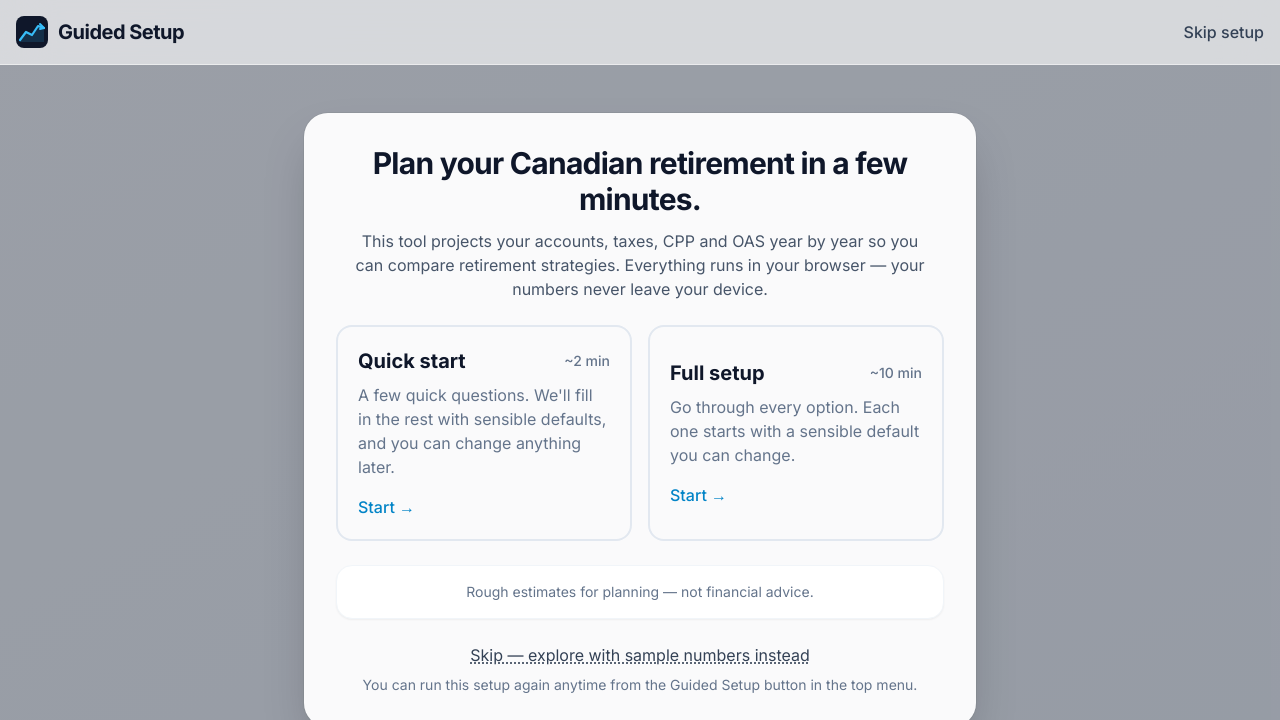
Scenario: OnboardingFlow › switching from Quick start to Full setup carries a quick-path edit into the draft
The image size is (1280, 720).
Click the button "Quick start" at (484, 433), box x1=336 y1=325 x2=632 y2=541
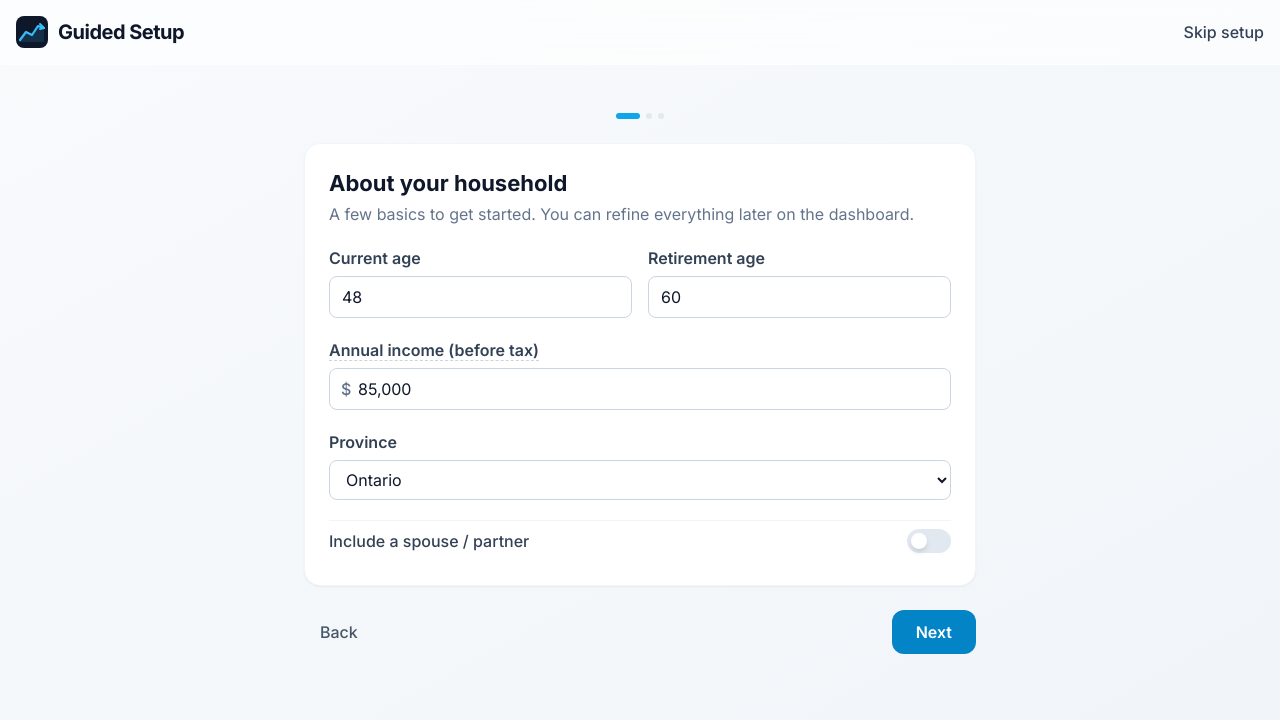
Replace the text in the field below "Current age" with "33" at (480, 297), box x1=329 y1=276 x2=632 y2=318
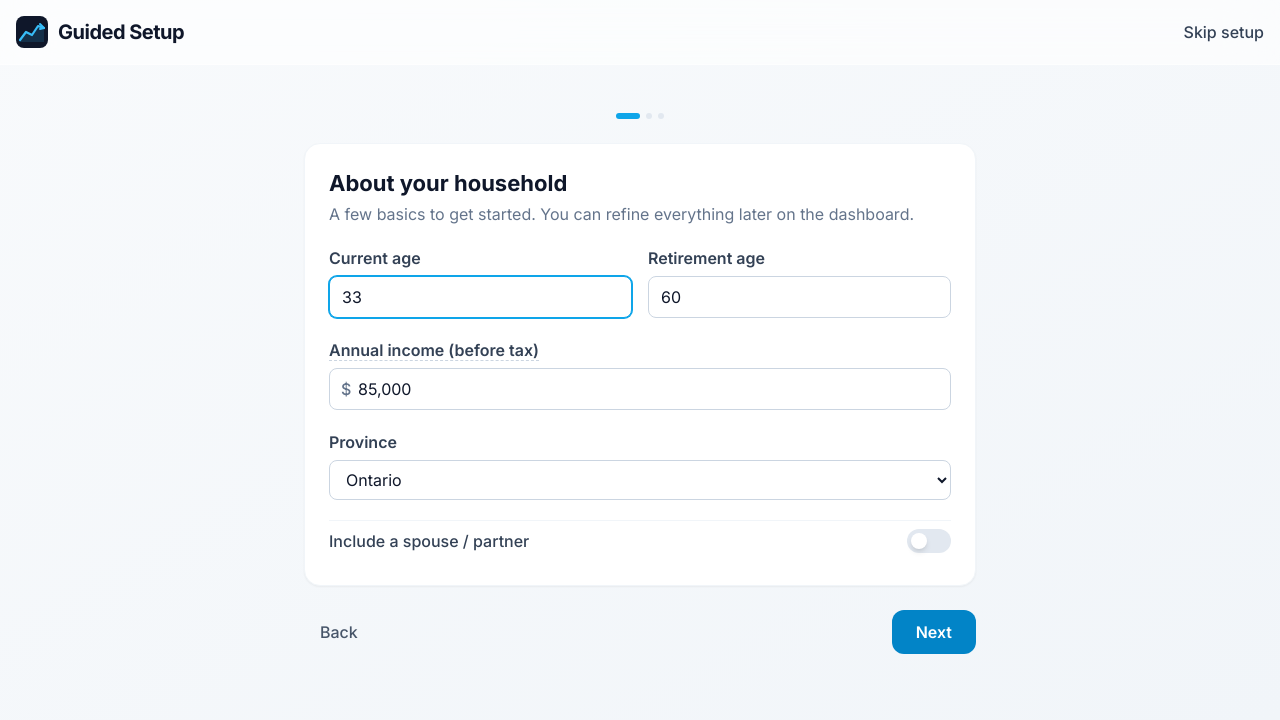
Press Tab
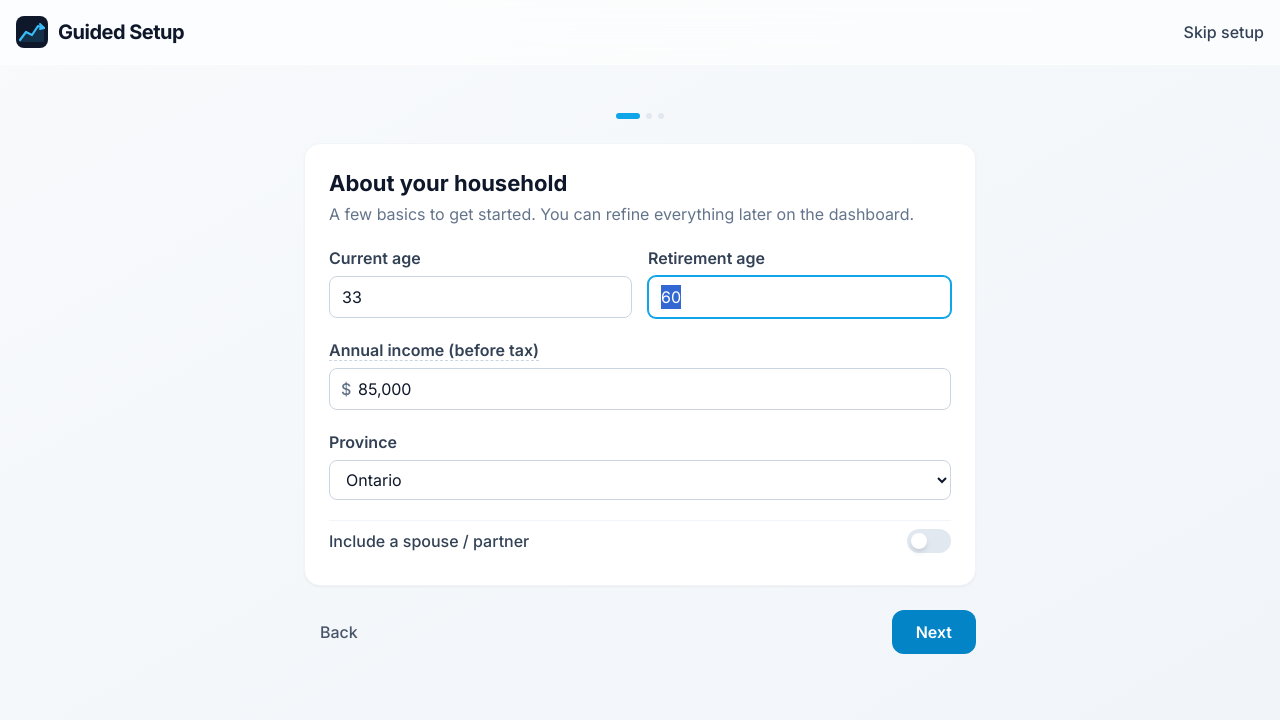
Click the button "Back" at (339, 632), box x1=304 y1=610 x2=374 y2=654
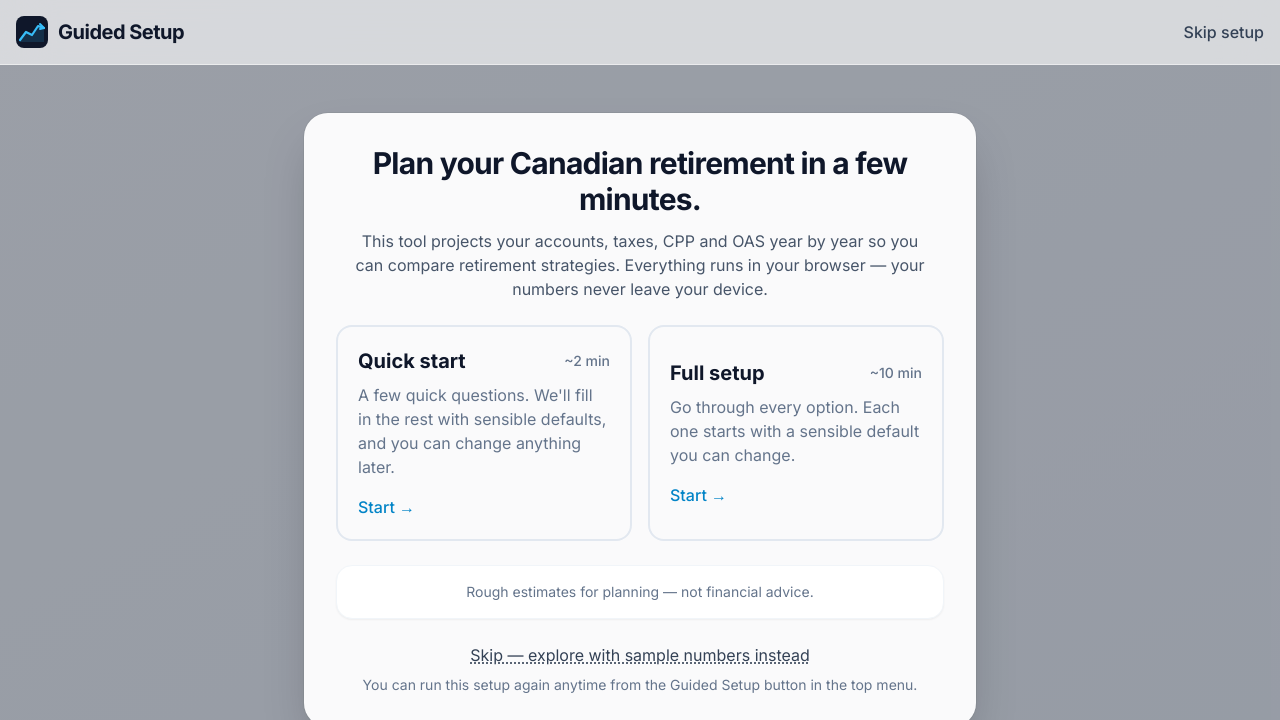
Click the button "Full setup" at (796, 433), box x1=648 y1=325 x2=944 y2=541
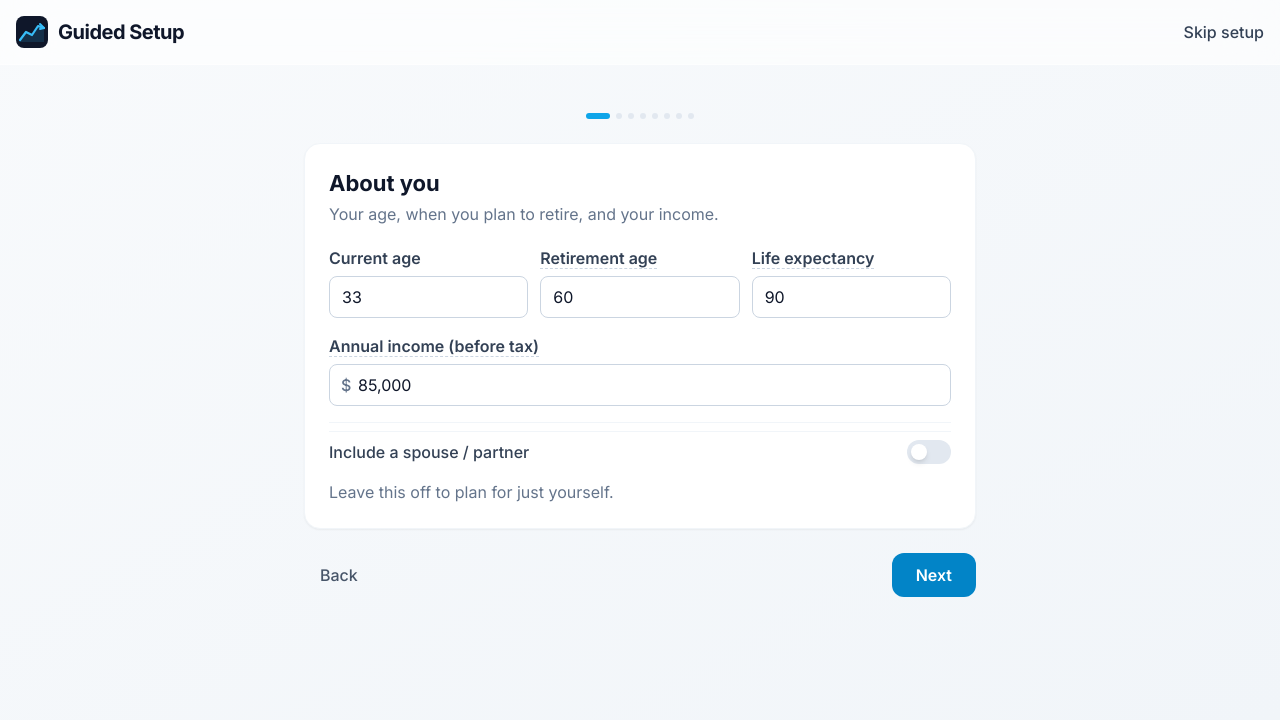
Check: the heading "About you" is shown, box x1=329 y1=170 x2=440 y2=196
Check: the field below "Current age" holds "33", box x1=329 y1=276 x2=528 y2=318
